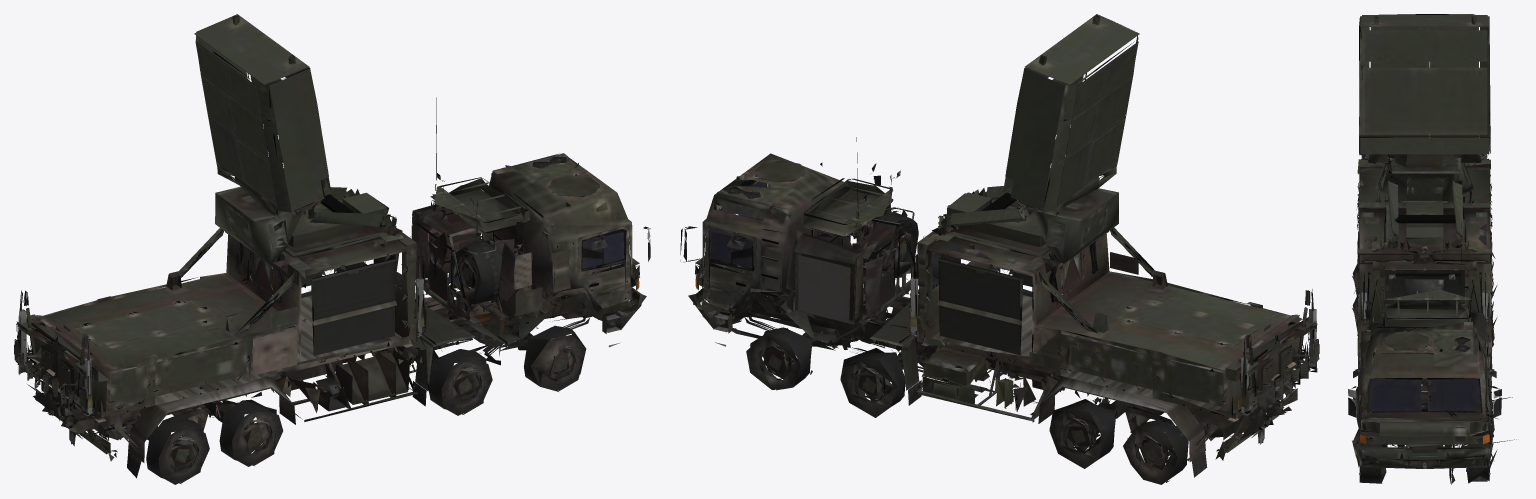
The model's file is irist_sls.glb.
3 views of the same model, side by side, from view 1: azimuth 30°, elevation 25°; view 2: azimuth 150°, elevation 25°; view 3: azimuth 270°, elevation 25° (orthographic). The views are drawn at different scales.
Visible parts, largest first — view 1: g_irist_sls_hull; view 2: g_irist_sls_hull; view 3: g_irist_sls_hull.
Part boxes in pixels (box(x1,y1,x2,y2)): g_irist_sls_hull: box(14, 14, 650, 484); g_irist_sls_hull: box(680, 14, 1319, 484); g_irist_sls_hull: box(1348, 14, 1516, 484).
Bounding box in the file's own units: 9.99 × 6.57 × 2.92.
1 material, 1 textured.
